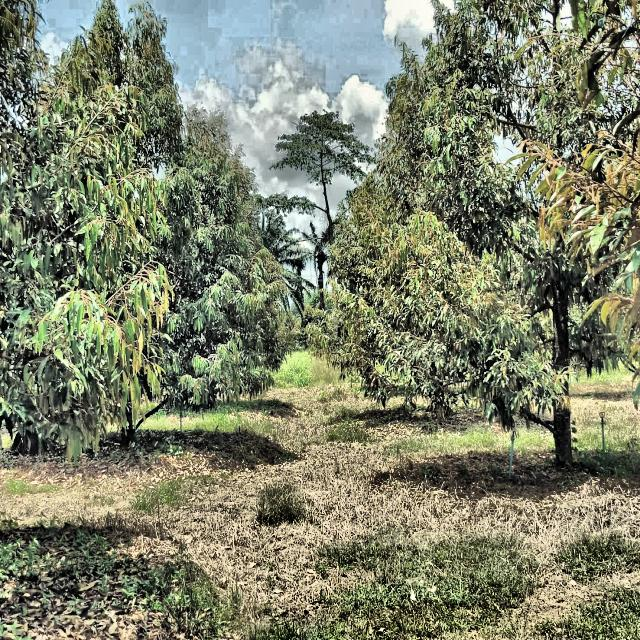arvore: (523, 215, 589, 483)
